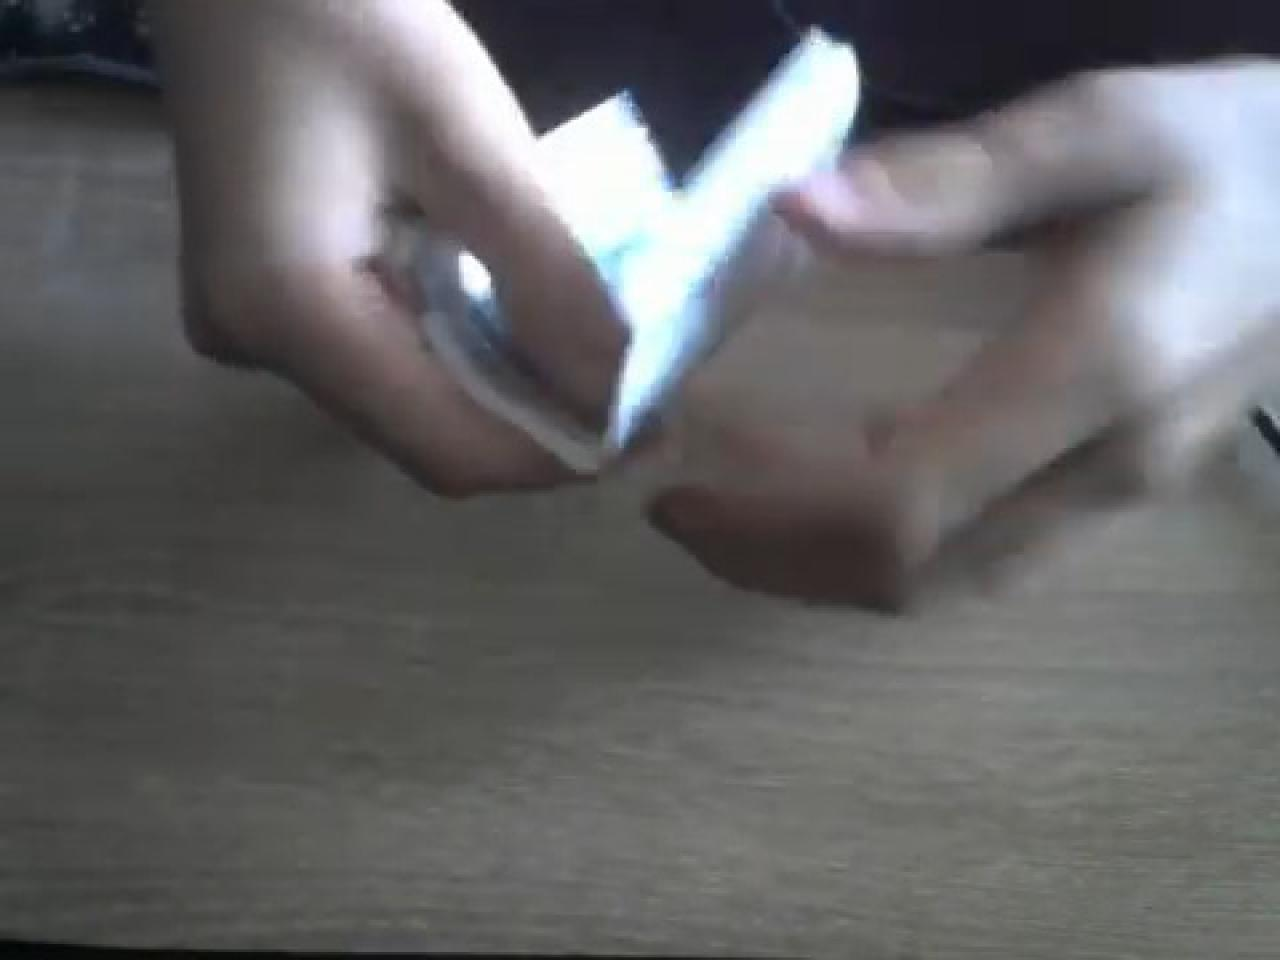20leva: (168, 0, 864, 480)
